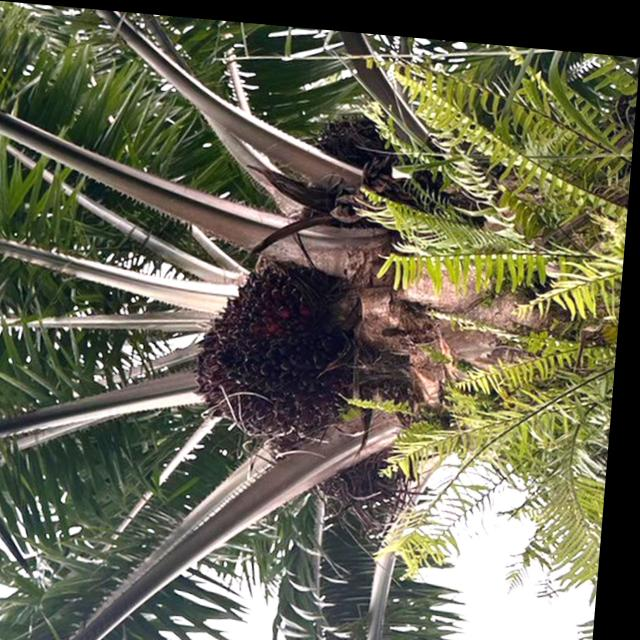ripe: (189, 245, 365, 455)
